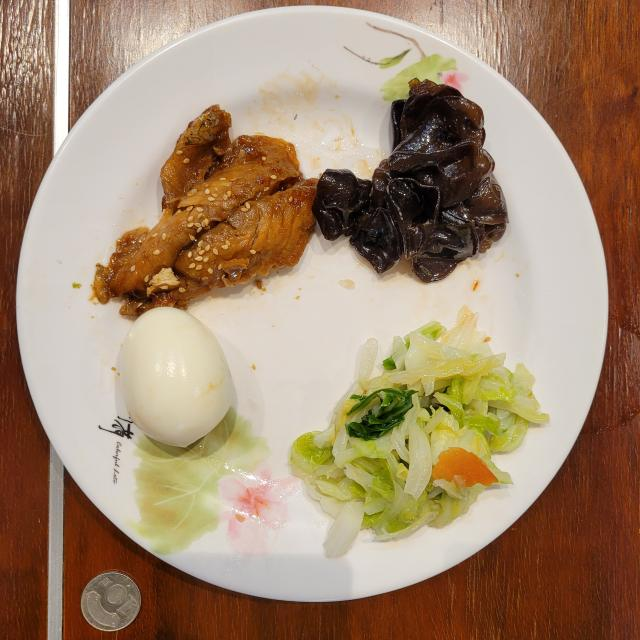Kabayaki sea bream fillet: (94, 108, 316, 315)
cabbage: (290, 308, 549, 558)
coin: (81, 571, 141, 631)
